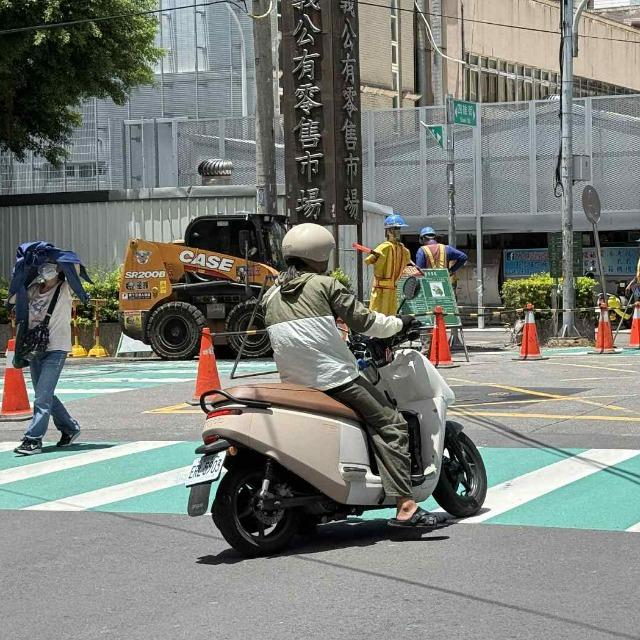NoVest: (264, 271, 359, 388)
